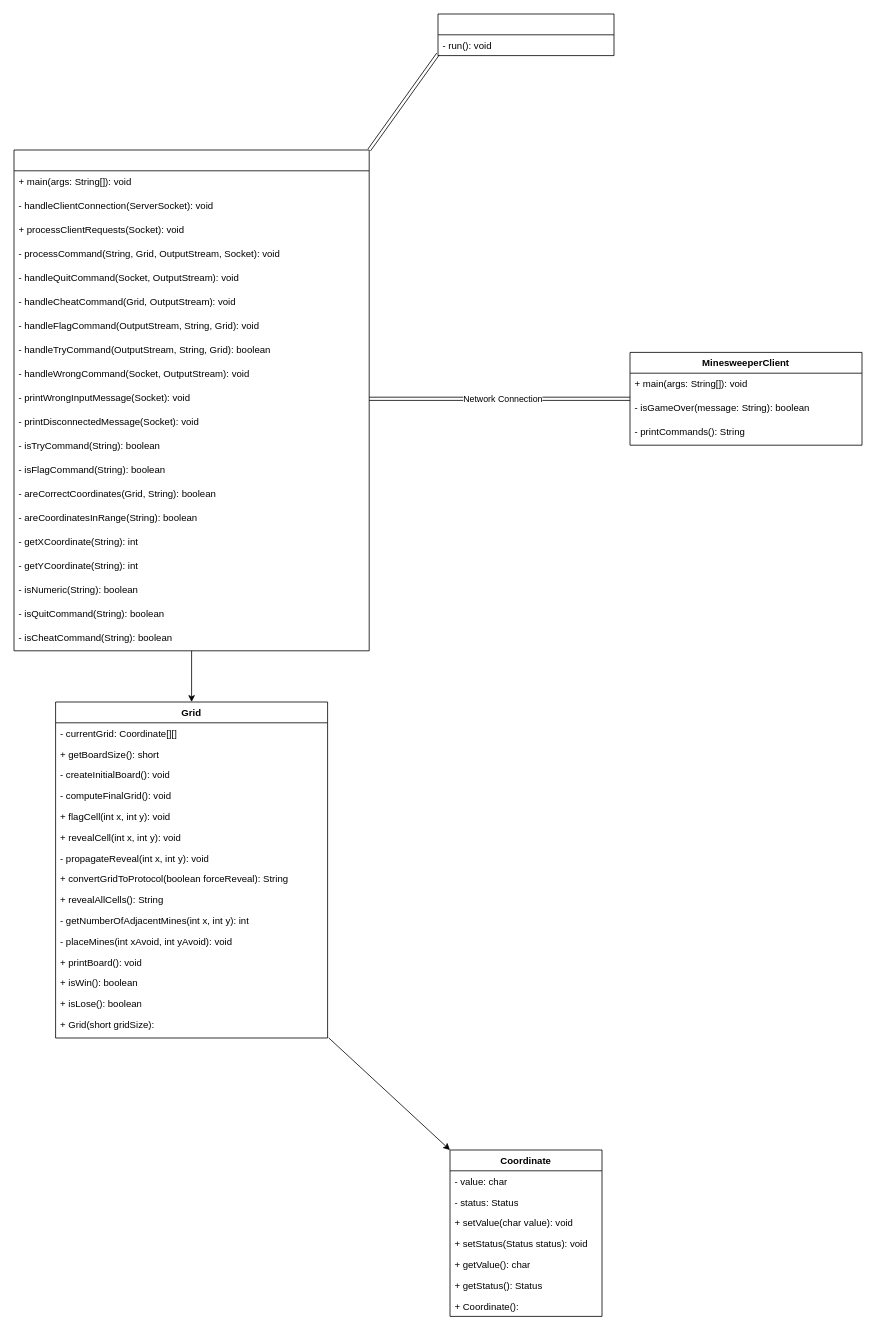
This 876x1333 diagram has some shape labels left out. The box of each missing label's shape, as (x1, y1, x2, y2) in pixels:
MinesweeperServer: (13, 149, 369, 651)
Worker: (437, 13, 614, 56)
